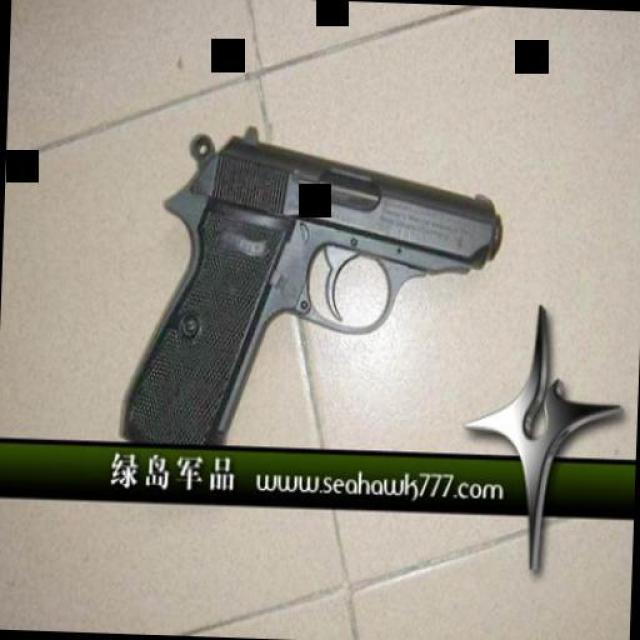gun: (118, 86, 506, 456)
